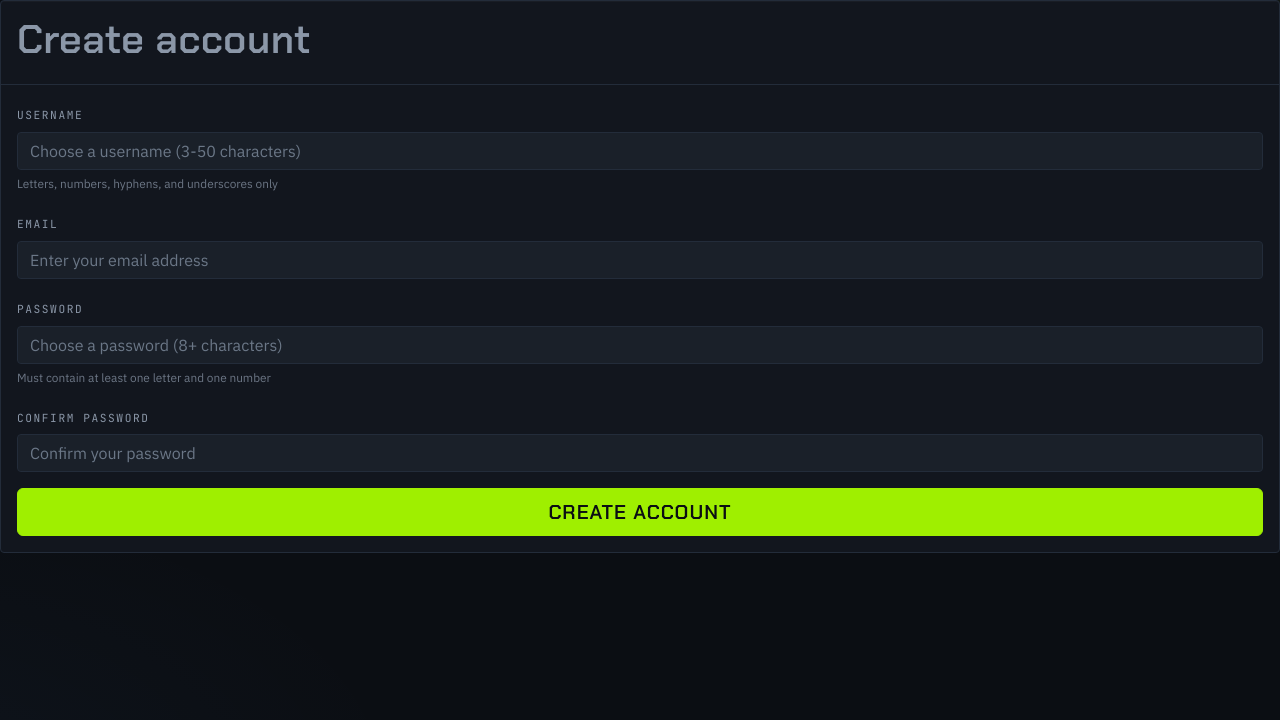
Scenario: RegisterForm › renders the registration result error without clearing the draft
The image size is (1280, 720).
Type "operator" into the field labelled "Username".
click(640, 151); type("operator")  # box 17,132 -> 1263,170
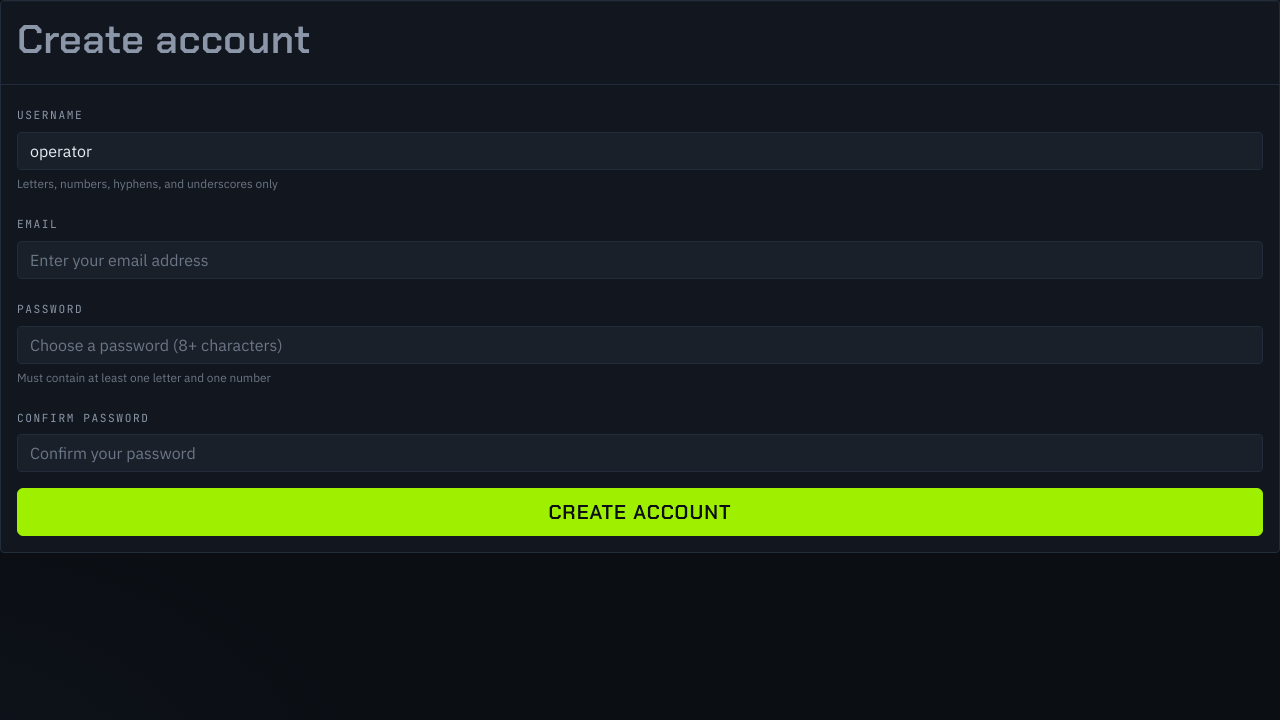
Type "operator@example.test" into the field labelled "Email".
click(640, 260); type("operator@example.test")  # box 17,241 -> 1263,279
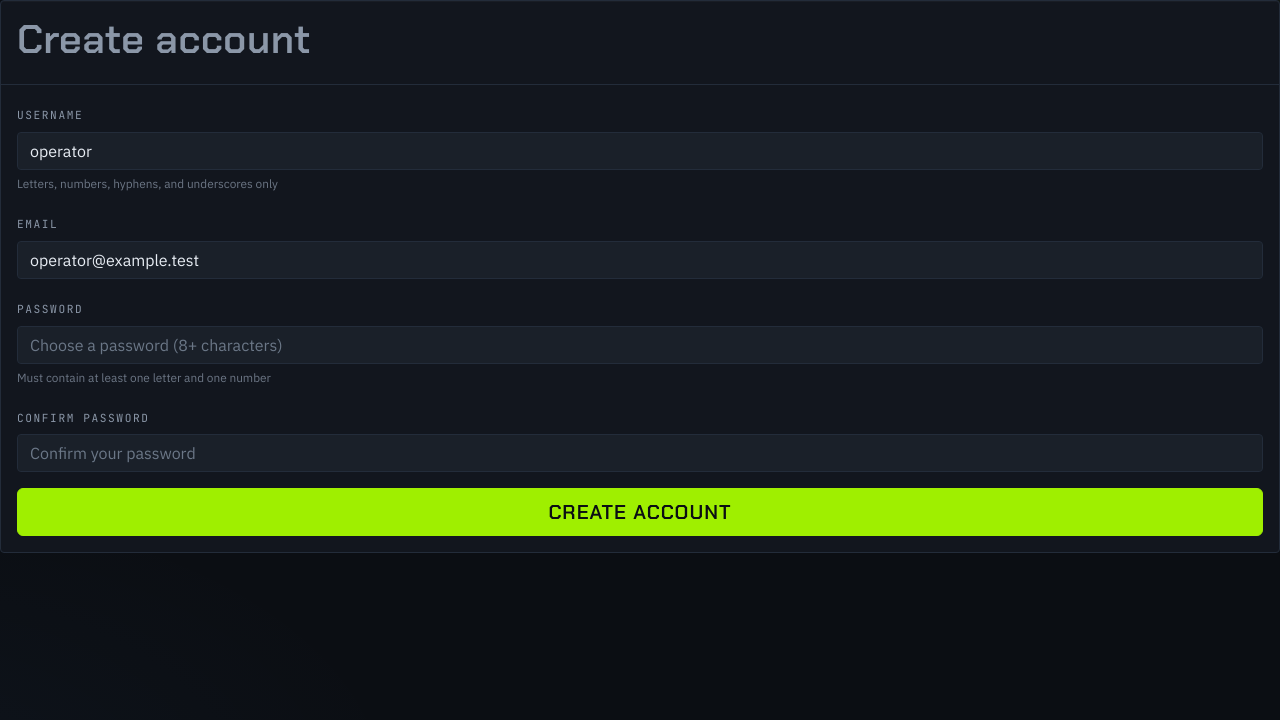
Type "password1" into the password field labelled "Password".
click(640, 345); type("password1")  # box 17,326 -> 1263,364
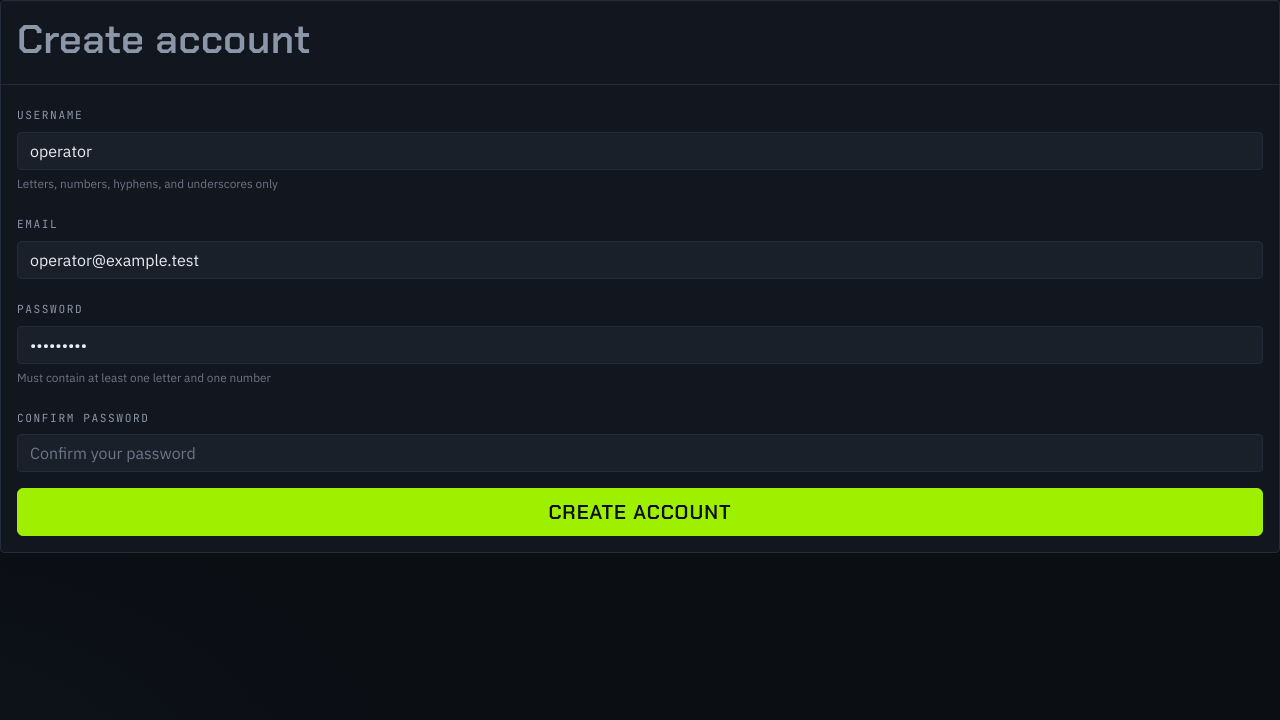
Type "password1" into the password field labelled "Confirm Password".
click(640, 453); type("password1")  # box 17,434 -> 1263,472
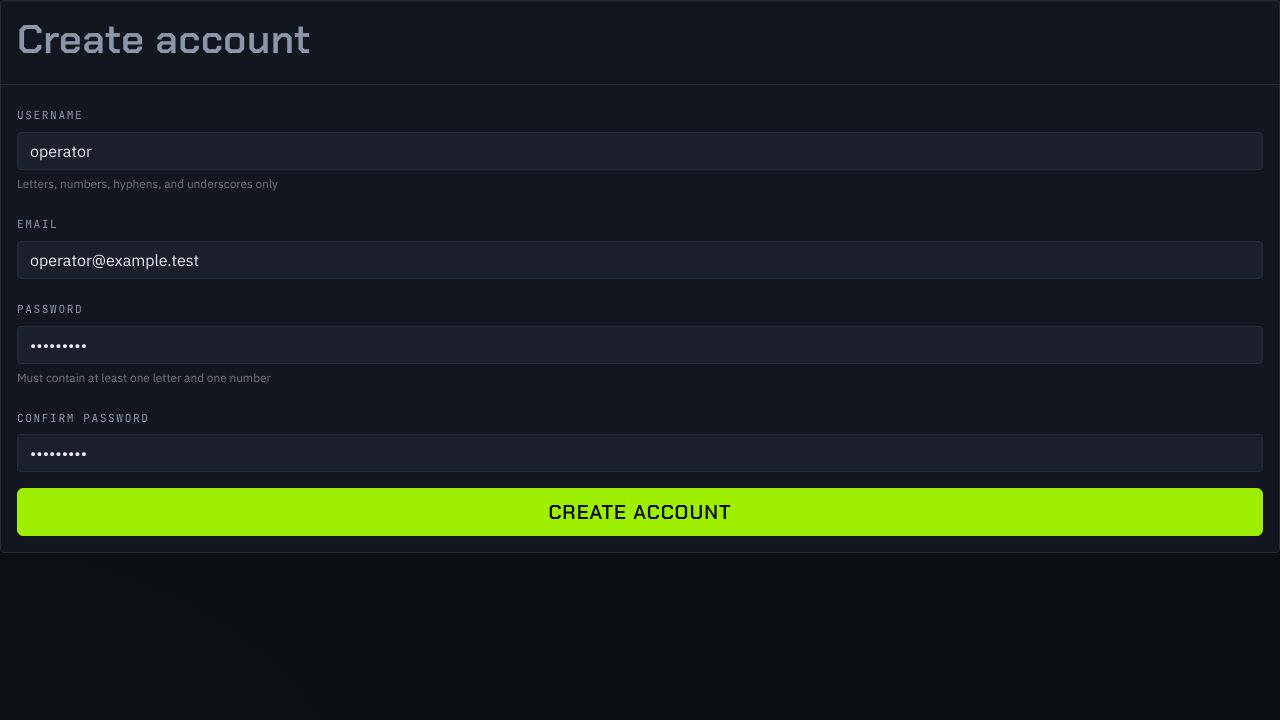
Click the button "Create Account".
click(640, 512)  # box 17,488 -> 1263,536
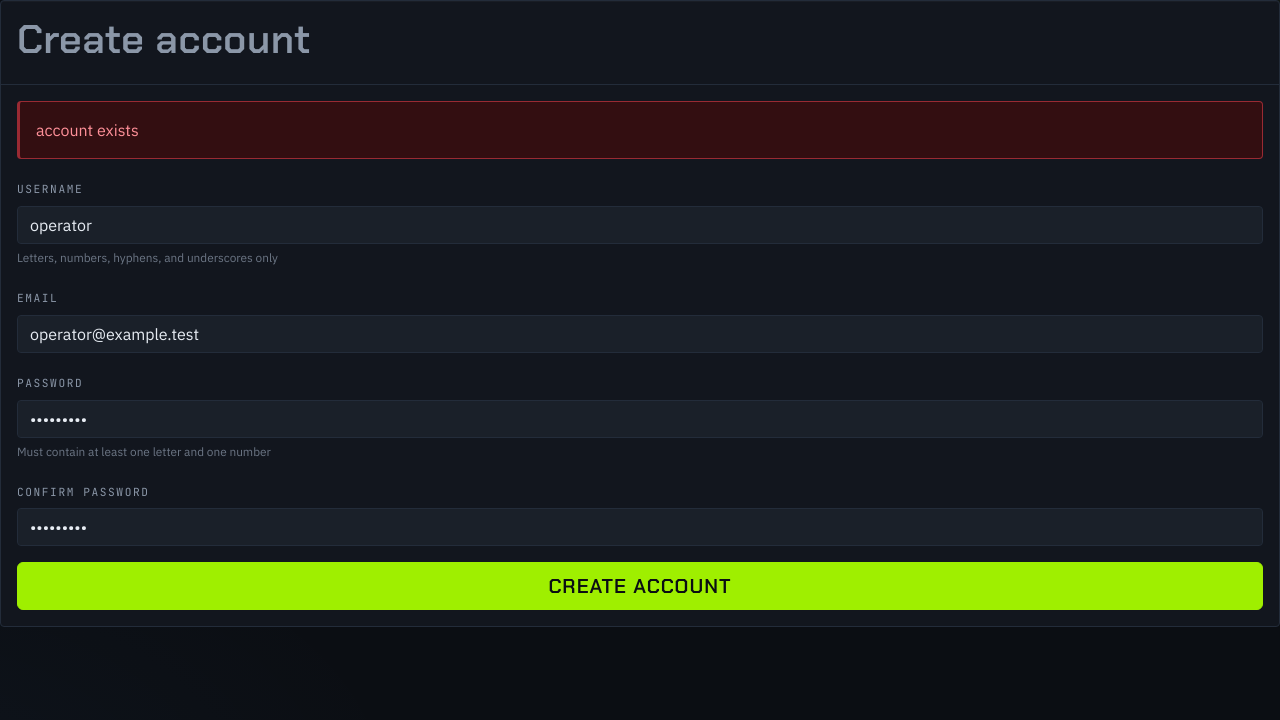
Result: the text "account exists" is shown at 17,101 -> 1263,159
